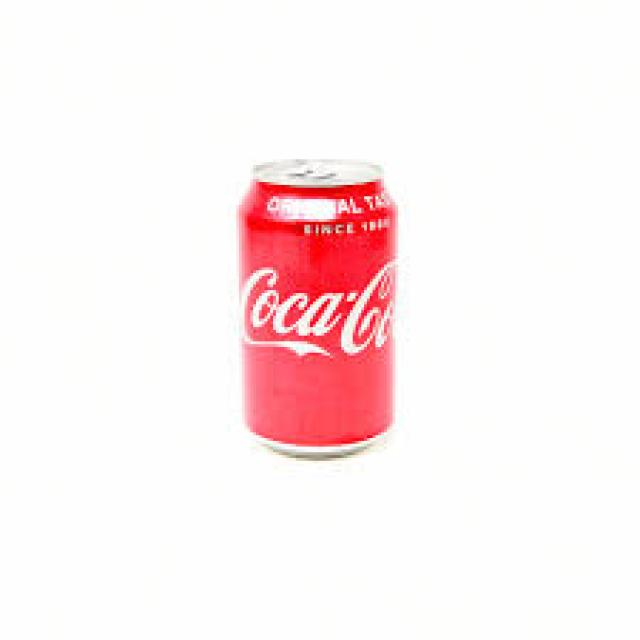metal: (236, 156, 393, 458)
